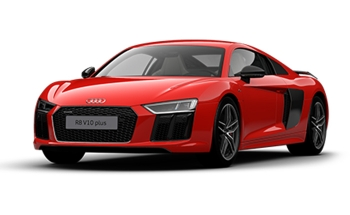audi: (25, 31, 330, 168)
